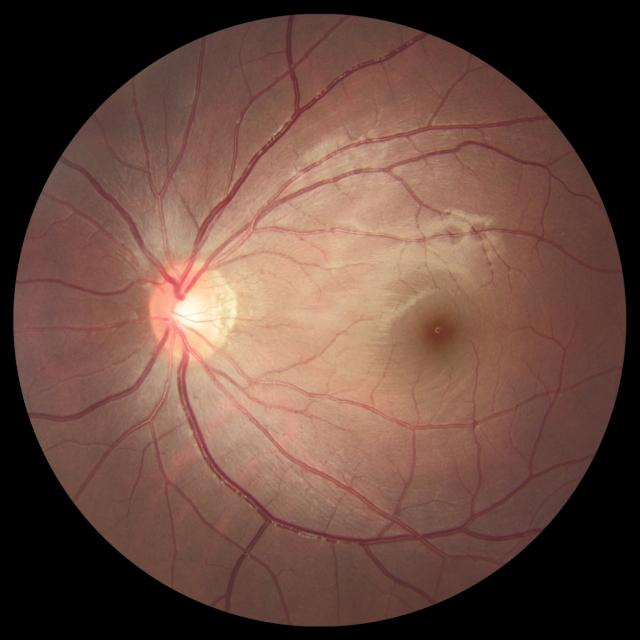OC: (170, 292, 206, 332)
OD: (150, 261, 225, 359)
